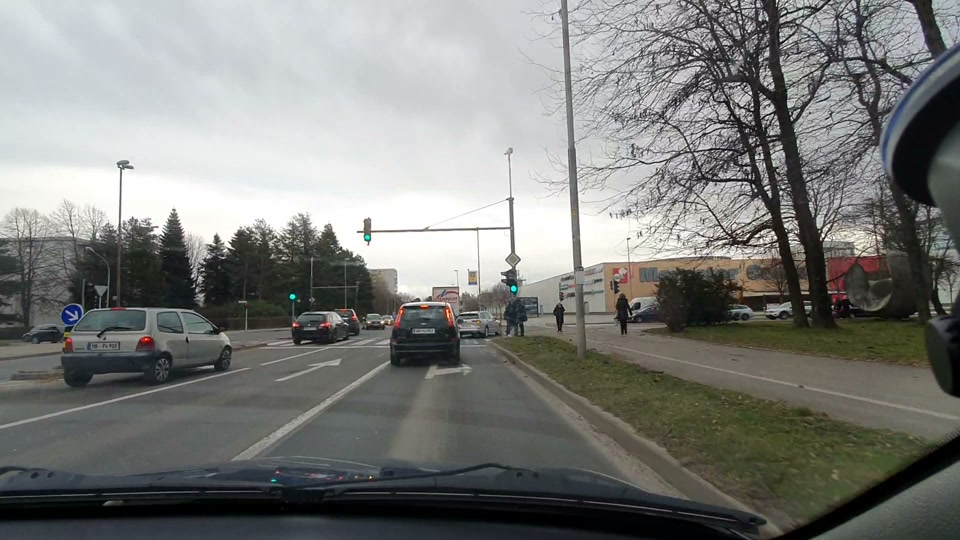vehicle_ign: (60, 296, 231, 390), (388, 295, 465, 376), (284, 301, 349, 351), (332, 305, 363, 336)
vehicle_s: (365, 309, 385, 333)
